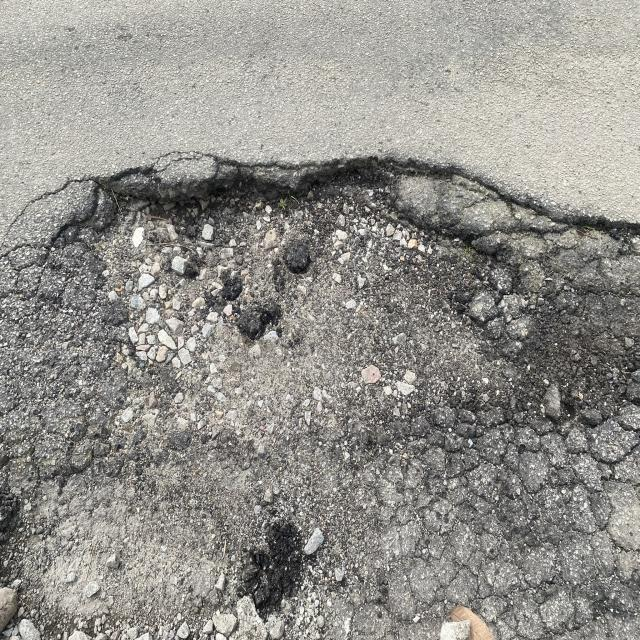pothole: (21, 116, 640, 362)
